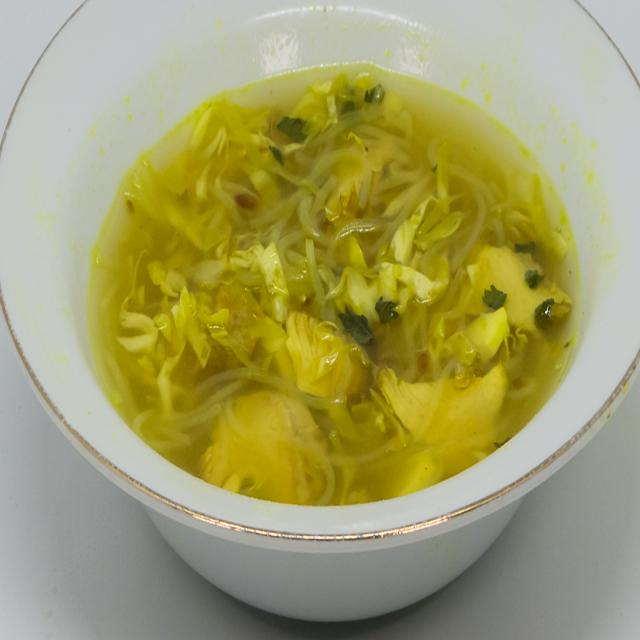Soto-Lamongan: (84, 28, 595, 518)
